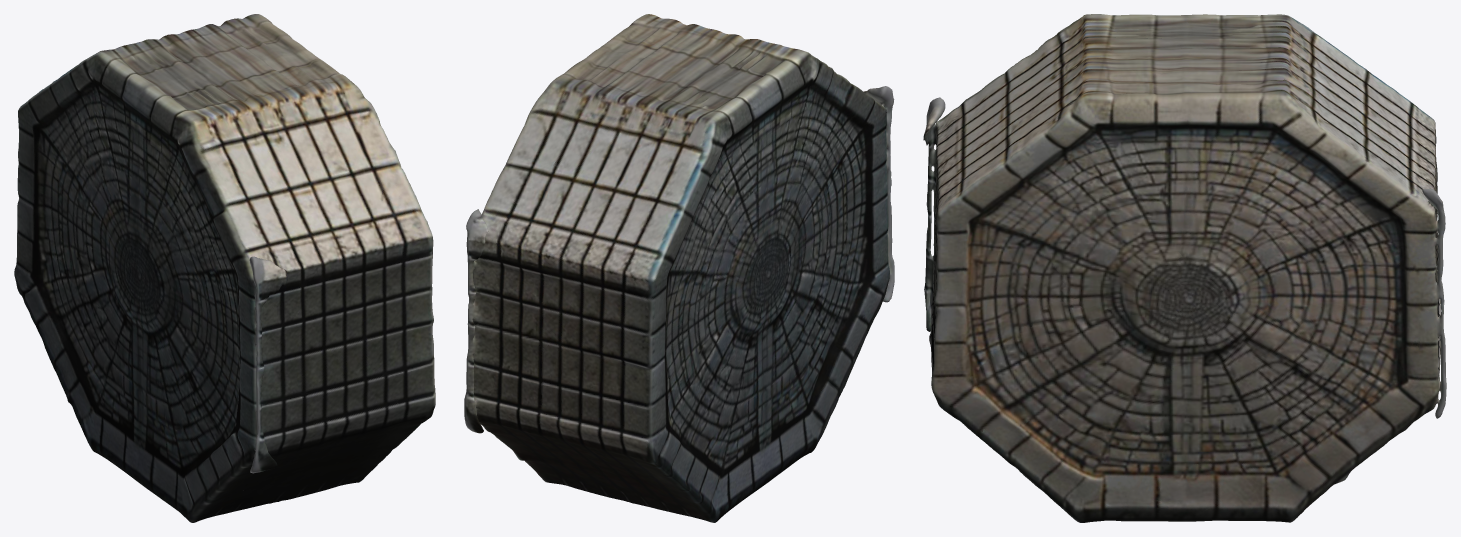
File: road.glb
The picture shows the model from 3 angles, left to right: view 1: azimuth 30°, elevation 25°; view 2: azimuth 150°, elevation 25°; view 3: azimuth 270°, elevation 25°; orthographic projection. The views are drawn at different scales.
Visible parts, largest first — view 1: tripo_node_85933cbb-7360-44fd-87da-7c1823859de4; view 2: tripo_node_85933cbb-7360-44fd-87da-7c1823859de4; view 3: tripo_node_85933cbb-7360-44fd-87da-7c1823859de4.
Boxes of the visible parts, x1,y1,x2,y2 form: tripo_node_85933cbb-7360-44fd-87da-7c1823859de4: (14,14,435,522); tripo_node_85933cbb-7360-44fd-87da-7c1823859de4: (464,14,894,522); tripo_node_85933cbb-7360-44fd-87da-7c1823859de4: (923,14,1446,522).
Bounding box in the file's own units: 0.3368 × 0.6933 × 0.7704.
Materials: 1 (1 with a texture image).
